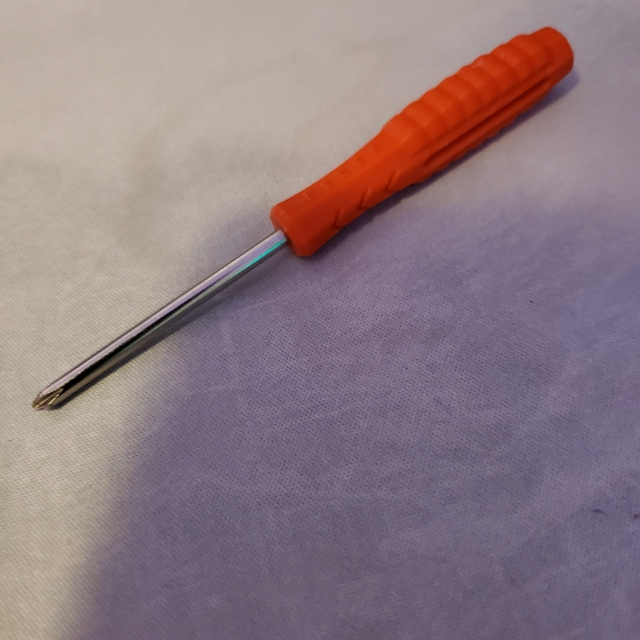screwdriver: (26, 20, 579, 419)
